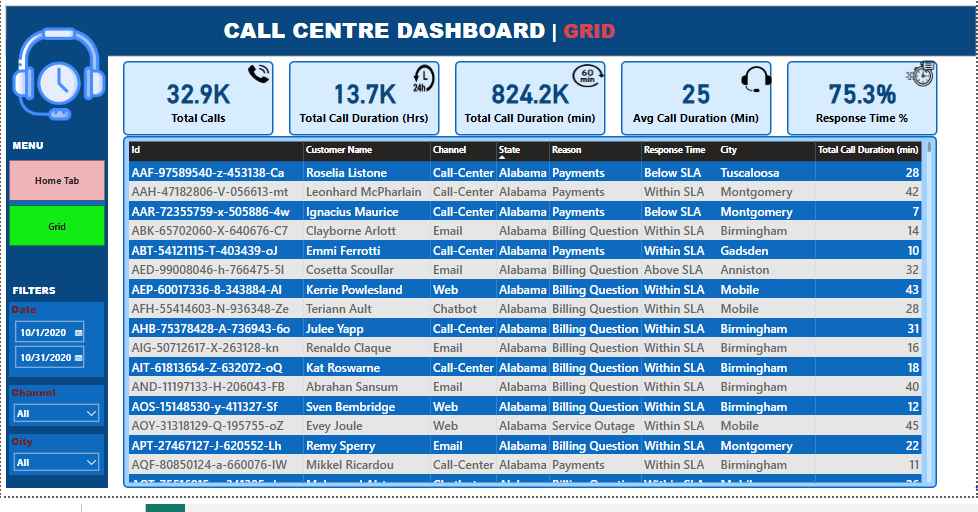

This screenshot's page, from the dashboard's own definition file:
{"tool":"powerbi","page":{"name":"Grid","canvas":[1950,1000],"ordinal":1},"visuals":[{"type":"shape","box":[10,20,1940,100],"z":0},{"type":"shape","box":[10,86,204,898],"z":1000},{"type":"card","fields":{"Values":["Call Center_Call Center.Total Calls"]},"box":[243,130,300.6,149],"z":2000},{"type":"card","fields":{"Values":["Call Center_Call Center.Total Call Duration (Hrs)"]},"box":[575.1,130,300.6,149],"z":3000},{"type":"card","fields":{"Values":["Call Center_Call Center.Total Call Duration (min)"]},"box":[907.2,130,300.6,149],"z":4000},{"type":"card","fields":{"Values":["Call Center_Call Center.Avg Call Duration (Min)"]},"box":[1239.3,130,300.6,149.4],"z":5000},{"type":"card","fields":{"Values":["Call Center_Call Center.Response Time %"]},"box":[1571.4,130,300.6,149.4],"z":6000},{"type":"image","box":[486,129.6,57.6,52.2],"z":7000},{"type":"image","box":[1803.6,120.6,68.4,70.2],"z":8000},{"type":"image","box":[820.8,129.6,52.2,68.4],"z":9000},{"type":"image","box":[1137.6,129.6,73.8,59.4],"z":10000},{"type":"image","box":[1476,133.2,70.2,64.8],"z":11000},{"type":"textbox","box":[422,32,896,74],"z":12000},{"type":"slicer","title":"Date","fields":{"Values":["Date Table.Date"]},"box":[16,612,190,150],"z":13000},{"type":"image","box":[18,32,196,248],"z":14000},{"type":"slicer","title":"Channel","fields":{"Values":["Call Center_Call Center.Channel"]},"box":[16,778,190,82],"z":15000},{"type":"slicer","title":"City","fields":{"Values":["Call Center_Call Center.City"]},"box":[16,876,190,82],"z":16000},{"type":"tableEx","fields":{"Values":["Call Center_Call Center.Id","Call Center_Call Center.Customer Name","Call Center_Call Center.Channel","Call Center_Call Center.State","Call Center_Call Center.Reason","Call Center_Call Center.Response Time","Call Center_Call Center.City","Call Center_Call Center.Total Call Duration (min)"]},"box":[244,280,1628,704],"z":17000},{"type":"pageNavigator","box":[16,328,192,172],"z":18000},{"type":"textbox","box":[18,280,86,48],"z":18001},{"type":"textbox","box":[18,570,174,42],"z":18002}]}

Visuals, with their boxes in screenshot pixels (x1, y1, x2, y2), scaled from the page's 1950x1000 canvas onto the 978x512 screenshot:
shape: [left=5, top=10, right=977, bottom=61]
shape: [left=5, top=44, right=107, bottom=504]
card - Call Center_Call Center.Total Calls: [left=122, top=67, right=273, bottom=143]
card - Call Center_Call Center.Total Call Duration (Hrs): [left=288, top=67, right=439, bottom=143]
card - Call Center_Call Center.Total Call Duration (min): [left=455, top=67, right=606, bottom=143]
card - Call Center_Call Center.Avg Call Duration (Min): [left=622, top=67, right=772, bottom=143]
card - Call Center_Call Center.Response Time %: [left=788, top=67, right=939, bottom=143]
image: [left=244, top=66, right=273, bottom=93]
image: [left=905, top=62, right=939, bottom=98]
image: [left=412, top=66, right=438, bottom=101]
image: [left=571, top=66, right=608, bottom=97]
image: [left=740, top=68, right=775, bottom=101]
textbox: [left=212, top=16, right=661, bottom=54]
"Date" slicer: [left=8, top=313, right=103, bottom=390]
image: [left=9, top=16, right=107, bottom=143]
"Channel" slicer: [left=8, top=398, right=103, bottom=440]
"City" slicer: [left=8, top=449, right=103, bottom=490]
tableEx - Call Center_Call Center.Id x Call Center_Call Center.Customer Name: [left=122, top=143, right=939, bottom=504]
pageNavigator: [left=8, top=168, right=104, bottom=256]
textbox: [left=9, top=143, right=52, bottom=168]
textbox: [left=9, top=292, right=96, bottom=313]
